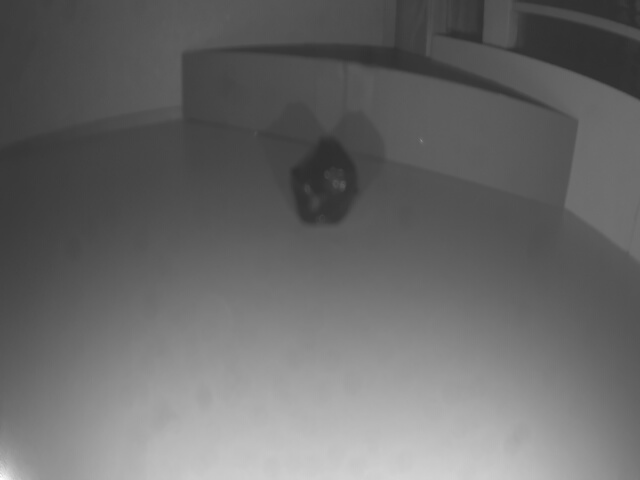Green: (174, 45, 573, 207)
